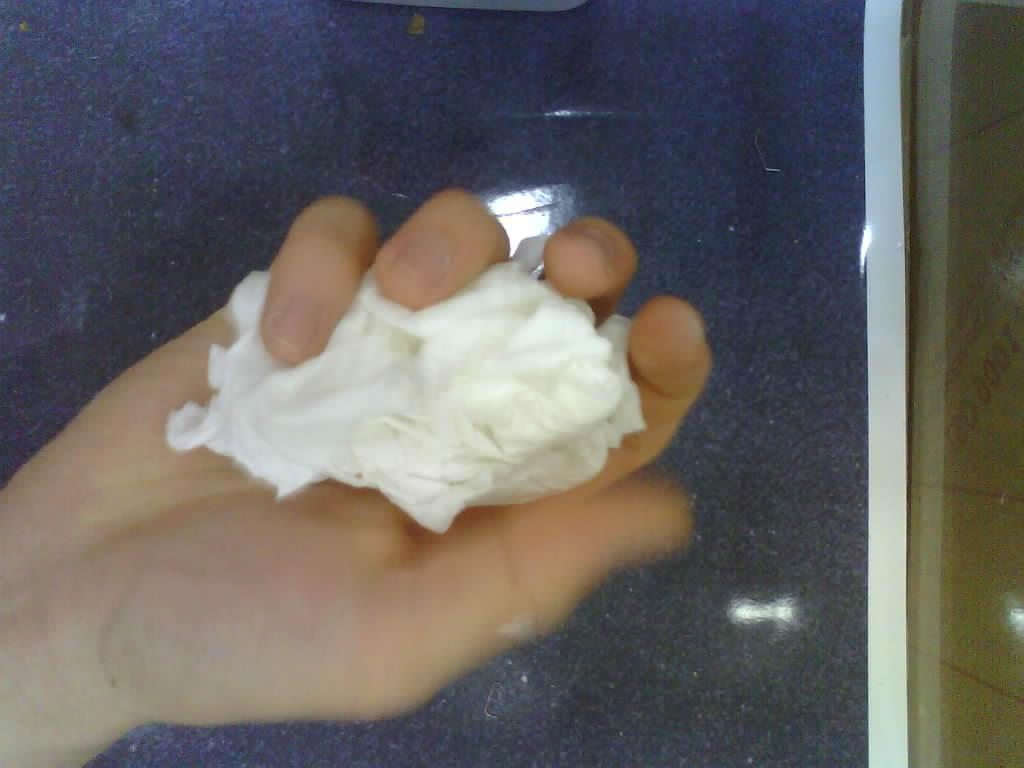paper: (166, 262, 644, 532)
